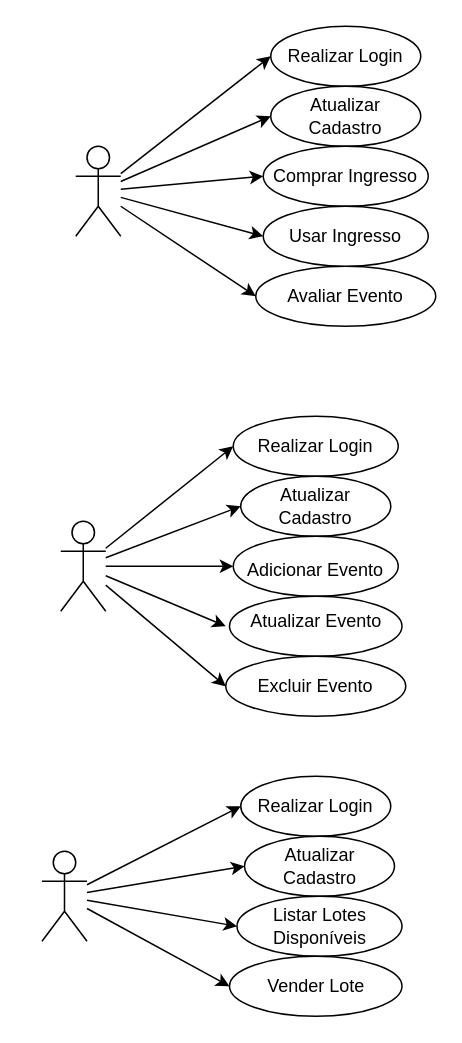
The diagram is 462 pixels wide and 1043 high, and some of its shapes have lost their labels. Each missing label, with the centre of its shape:
"Organizador" belongs at (x=82, y=565).
"Participante" belongs at (x=97, y=190).
"Vendedor" belongs at (x=63, y=895).
